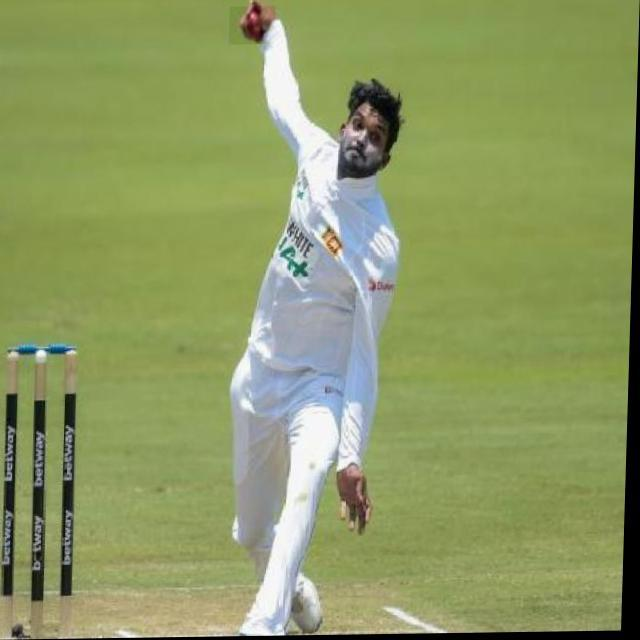-: (229, 7, 276, 46)
